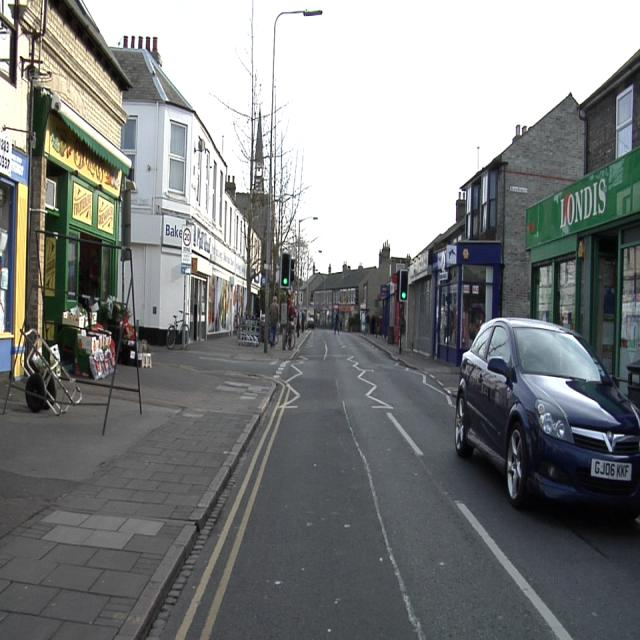Building: (314, 51, 639, 403), (2, 3, 249, 368)
Car: (457, 319, 639, 511)
Road: (207, 331, 637, 638)
person: (268, 295, 279, 344)
